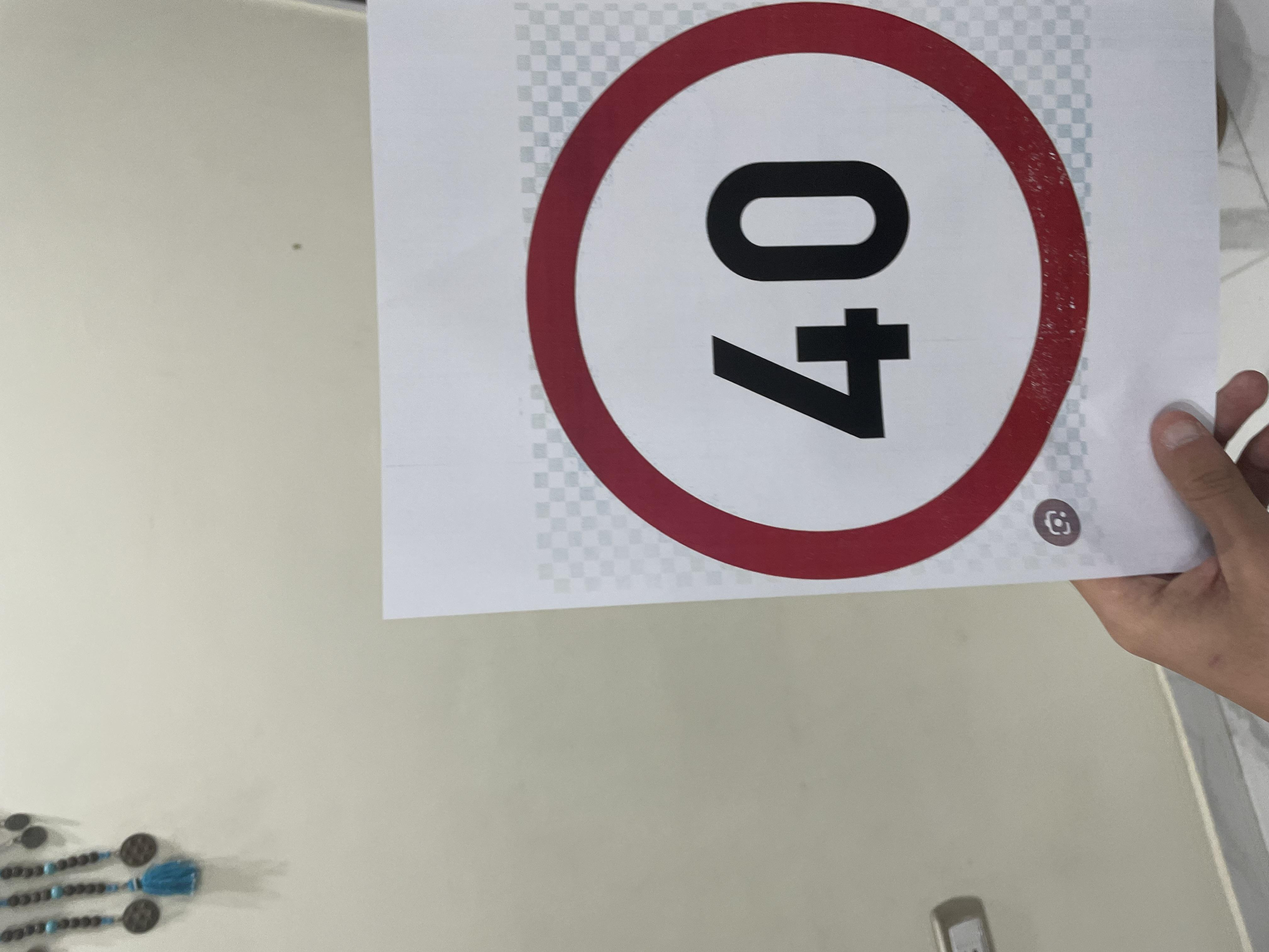40-Speed: (488, 381, 1269, 825)
